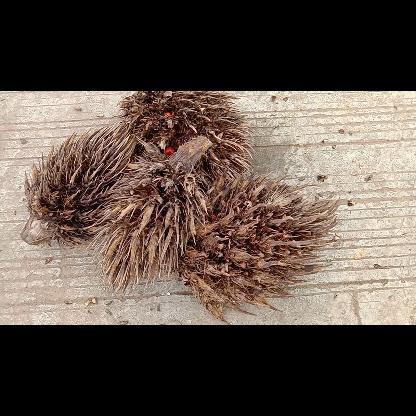Janjang kosong: (176, 170, 338, 324), (90, 136, 212, 294), (20, 124, 136, 248), (119, 91, 254, 189)
